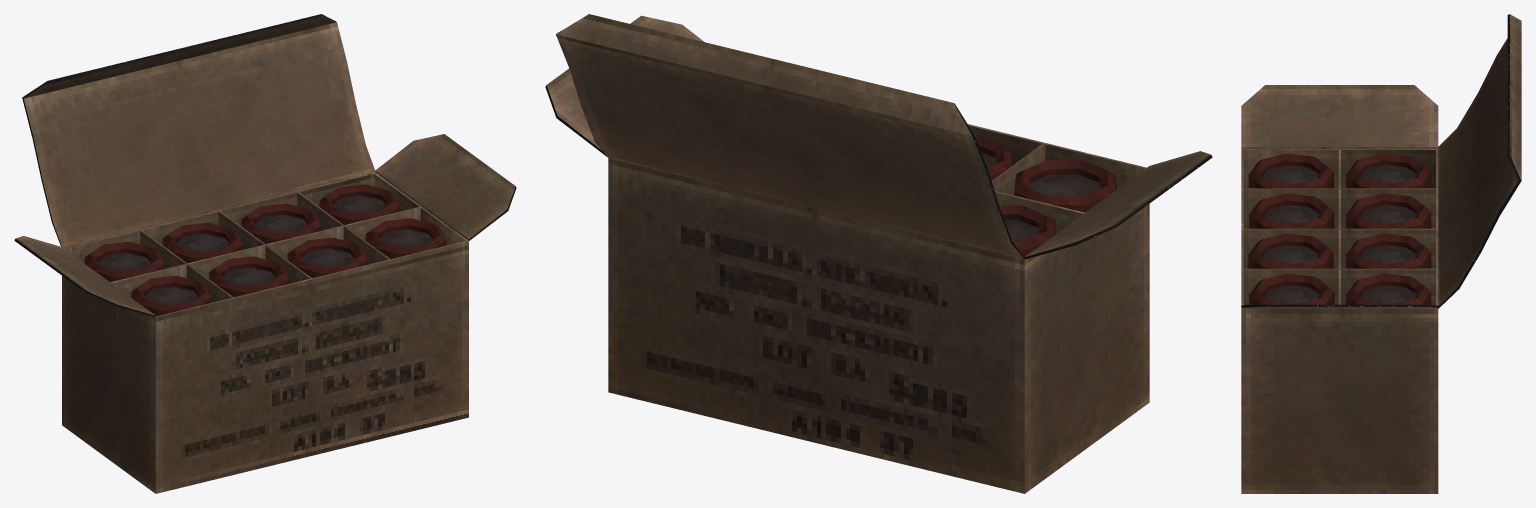
File: shotgun_ammo_2_1.glb
3 renders of one model, left to right at view 1: azimuth 30°, elevation 25°; view 2: azimuth 150°, elevation 25°; view 3: azimuth 270°, elevation 25°, orthographic. The views are drawn at different scales.
Visible parts, largest first — view 1: shotgun_ammo_2_1; view 2: shotgun_ammo_2_1; view 3: shotgun_ammo_2_1.
Boxes of the visible parts, x1=… form: shotgun_ammo_2_1: x1=14, y1=14, x2=516, y2=493; shotgun_ammo_2_1: x1=545, y1=14, x2=1212, y2=493; shotgun_ammo_2_1: x1=1241, y1=14, x2=1521, y2=493.
Size of the model in its own units: 0.1979 by 0.138 by 0.1063.
1 material, 1 textured.
